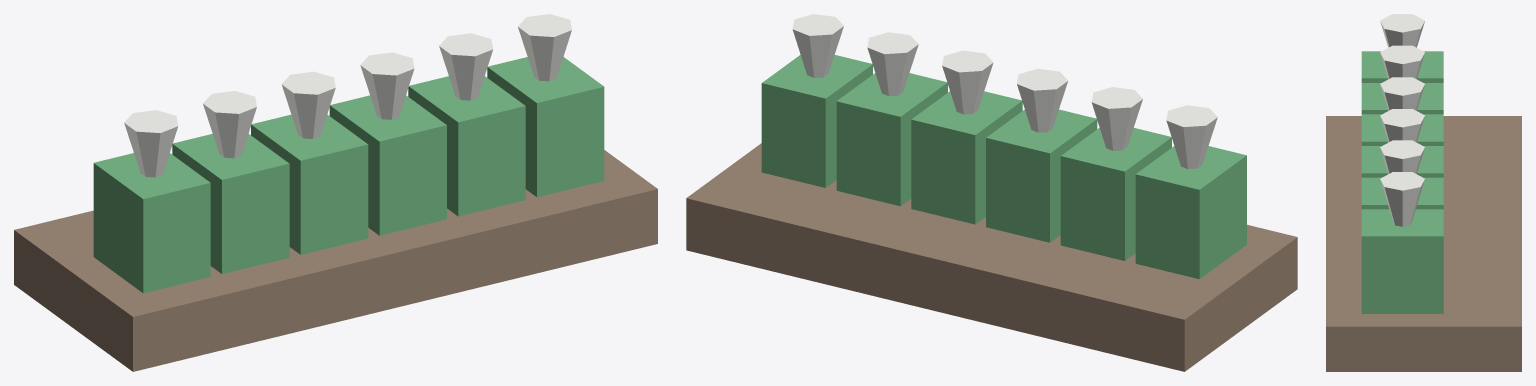
File: flora_40_zantedeschia_aethiopica_luong_hoa_rum_trang_ta_nung_van_thanh.glb
3 views of the same model, side by side, from view 1: azimuth 30°, elevation 25°; view 2: azimuth 150°, elevation 25°; view 3: azimuth 270°, elevation 25° (orthographic). The views are drawn at different scales.
Parts seen in each view (by area): view 1: flora_40_zantedeschia_aethiopica_luong_hoa_rum_trang_ta_nung; view 2: flora_40_zantedeschia_aethiopica_luong_hoa_rum_trang_ta_nung; view 3: flora_40_zantedeschia_aethiopica_luong_hoa_rum_trang_ta_nung.
Part boxes in pixels (box(x1,y1,x2,y2)): flora_40_zantedeschia_aethiopica_luong_hoa_rum_trang_ta_nung: box(14, 14, 657, 371); flora_40_zantedeschia_aethiopica_luong_hoa_rum_trang_ta_nung: box(686, 14, 1297, 371); flora_40_zantedeschia_aethiopica_luong_hoa_rum_trang_ta_nung: box(1326, 14, 1521, 371).
Size of the model in its own units: 2.8 by 1.02 by 1.1.
